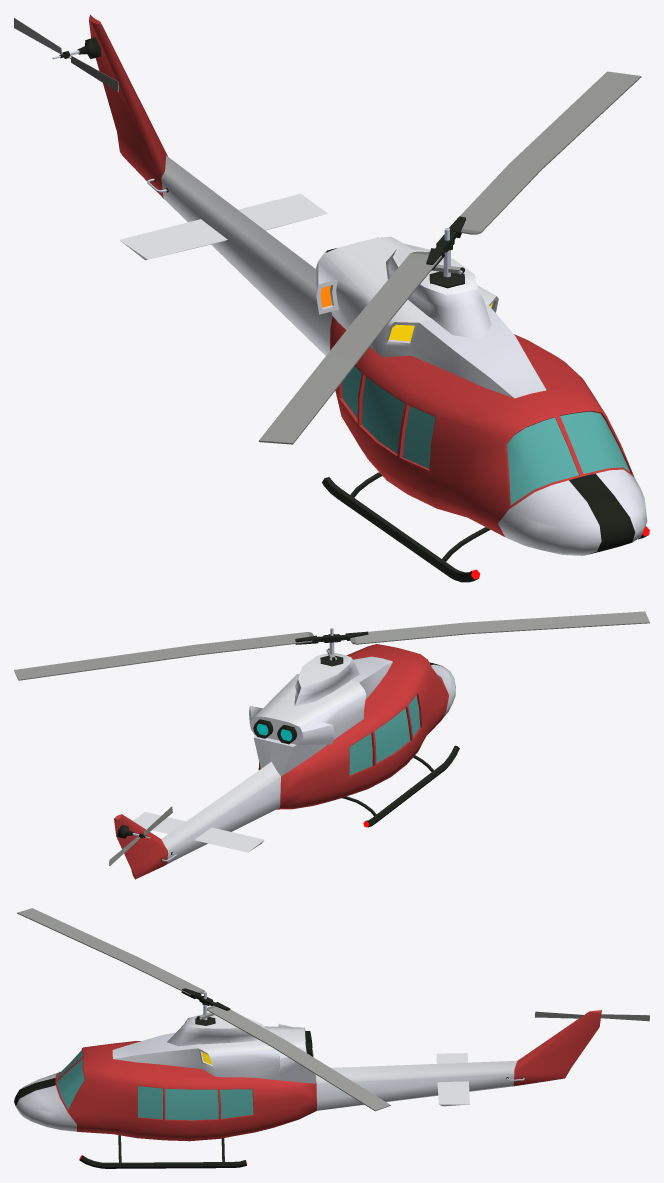
File: Helicopter_Red.glb
The picture shows the model from 3 angles, top to bottom: view 1: azimuth 30°, elevation 25°; view 2: azimuth 150°, elevation 25°; view 3: azimuth 270°, elevation 25°; orthographic projection. The views are drawn at different scales.
Parts seen in each view (by area): view 1: Helicopter_A; view 2: Helicopter_A; view 3: Helicopter_A.
Boxes of the visible parts, x1,y1,x2,y2 form: Helicopter_A: [14, 15, 649, 582]; Helicopter_A: [14, 611, 649, 879]; Helicopter_A: [14, 908, 649, 1168].
Size of what is drawn, in the model's own units: 10.15 by 3.75 by 14.31.
1 material, 1 textured.
